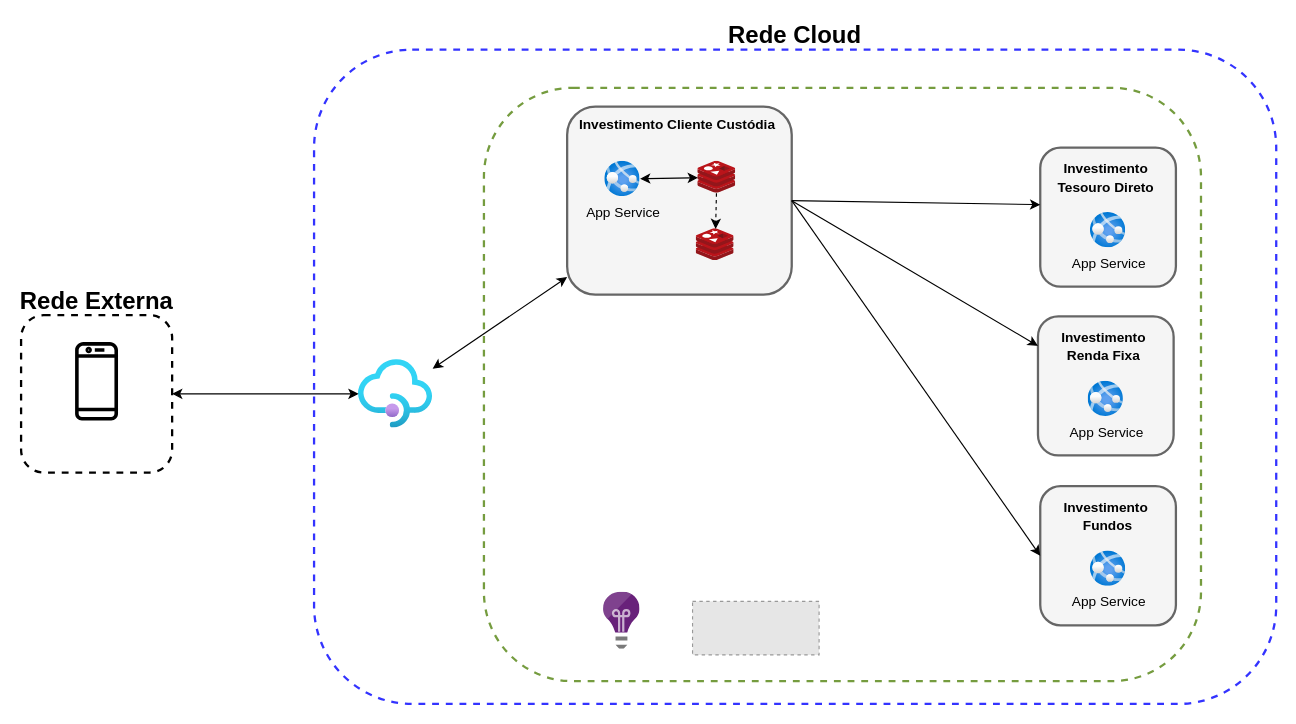
This 1296x724 diagram has some shape labels left out. Grey dashed boxes stand in for pictures. Each missing label, with the box of its shape:
API management: (358, 359, 432, 427)
Application Insights: (603, 592, 640, 649)
Device: (46, 331, 146, 430)
Master Redis: (697, 161, 735, 193)
Slave Redis: (696, 228, 734, 260)
